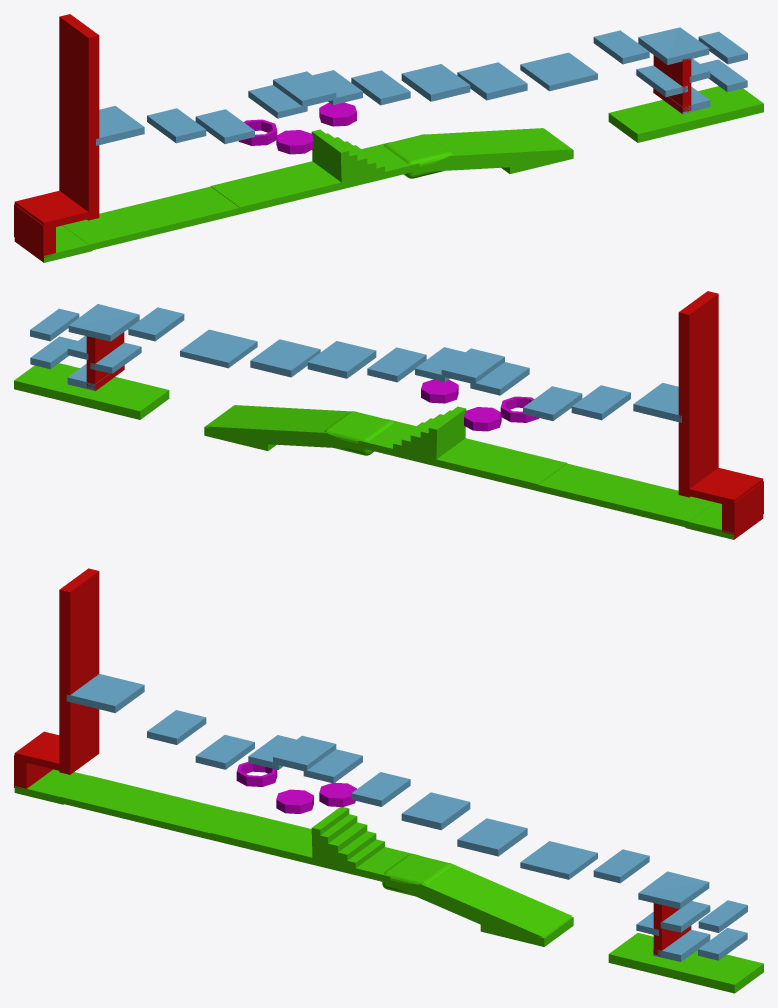
Rendered from KDstage.obj.
The picture shows the model from 3 angles, top to bottom: view 1: azimuth 30°, elevation 25°; view 2: azimuth 150°, elevation 25°; view 3: azimuth 330°, elevation 25°; orthographic projection.
Bounding box in the file's own units: 2853 × 904 × 200.
